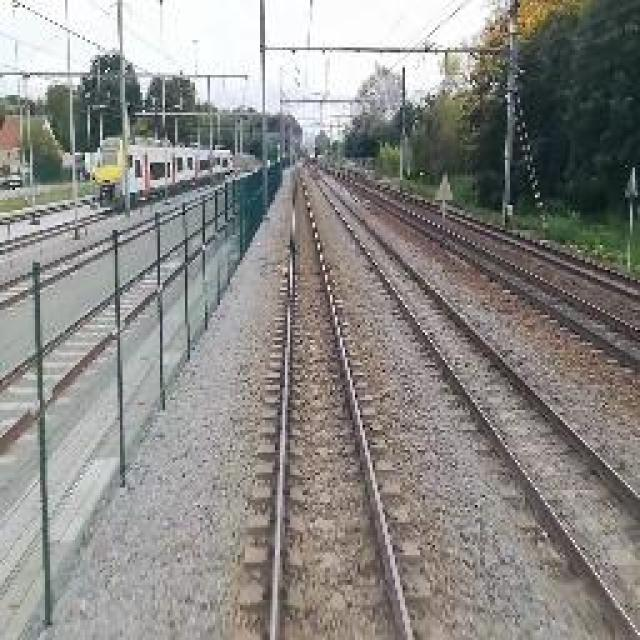rail: (222, 162, 451, 640)
